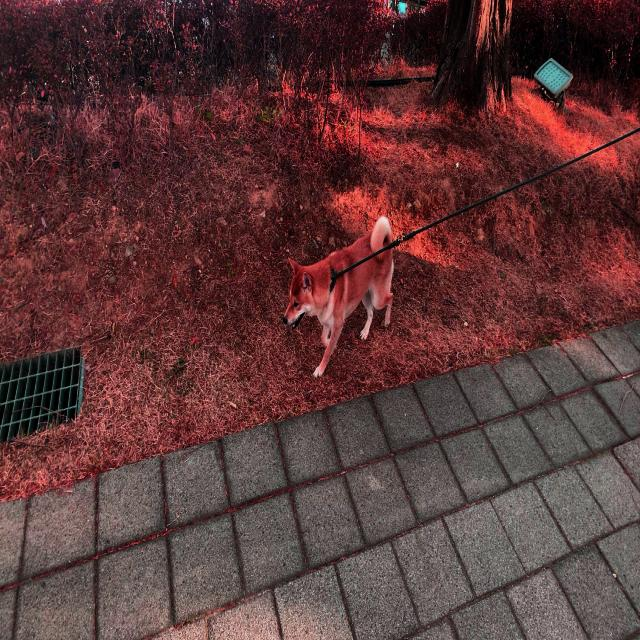Dog: (281, 211, 397, 382)
